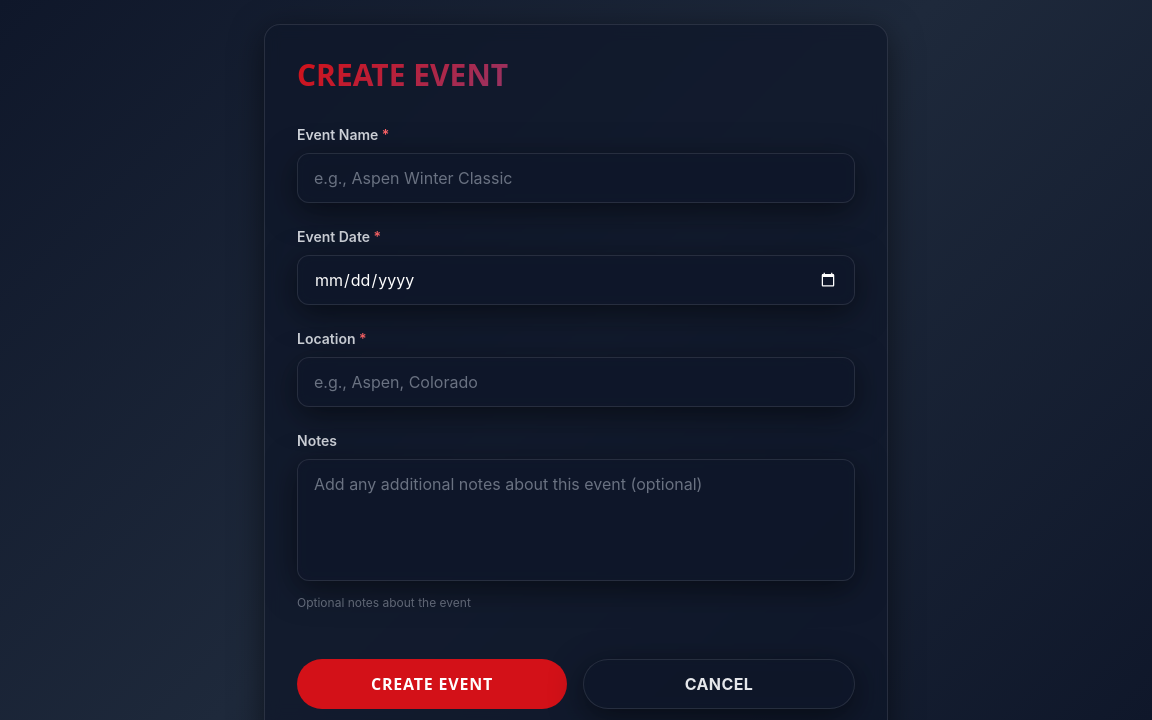
Test case: EventForm › Validation › should show error when event name is empty
The width and height of the screenshot is (1152, 720).
What coordinates should you click on to do the following:
click the button "Create Event"
I would click on:
 (432, 684)
Its box is [297, 659, 567, 709].
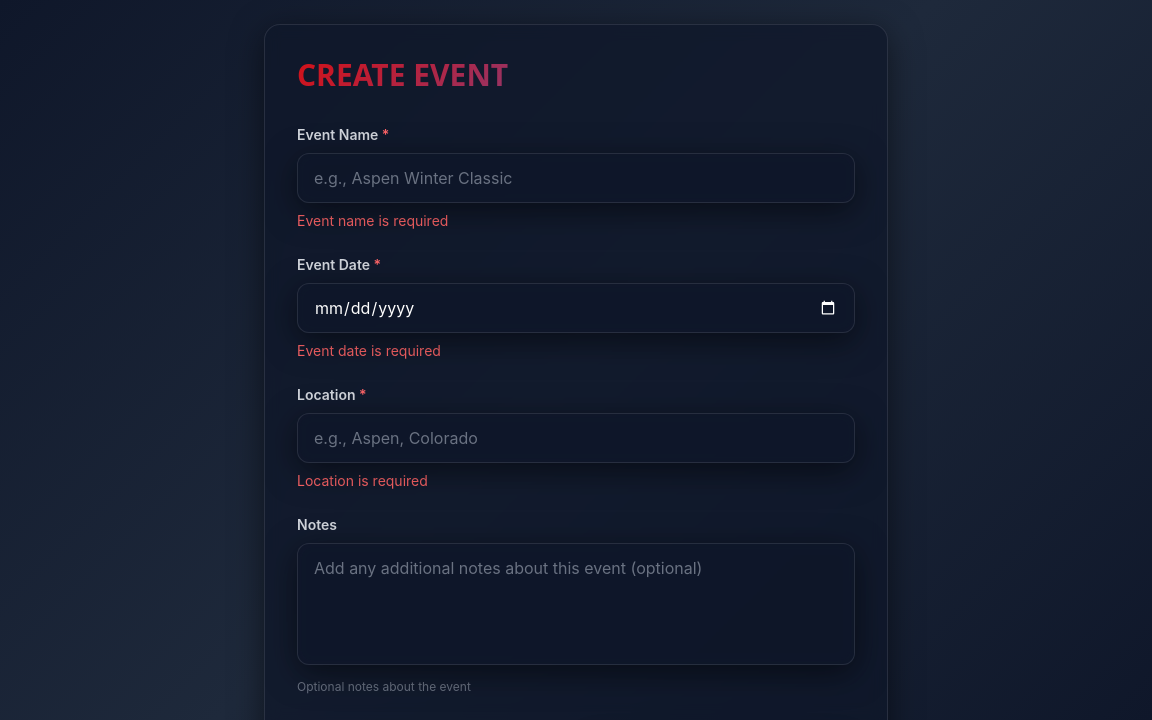
expect the text "Event name is required" is shown: met, box [297, 212, 448, 229]
